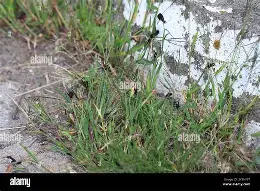weed: (0, 0, 258, 171)
